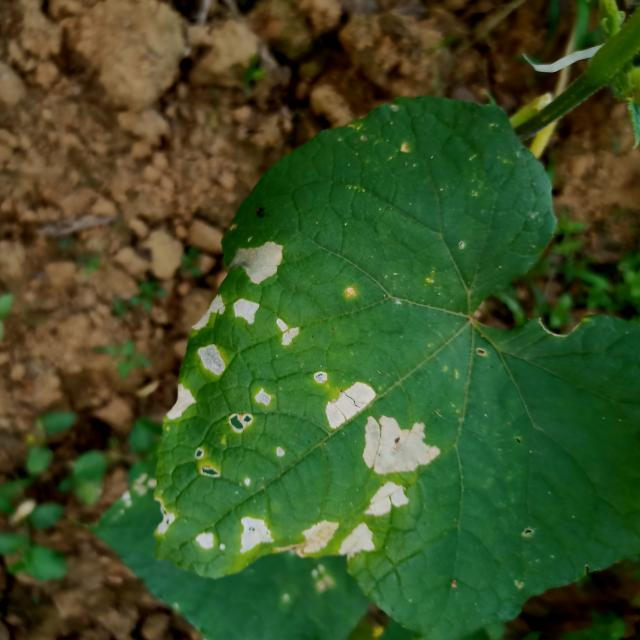disease_cucumber: (323, 381, 439, 476), (188, 516, 273, 556), (192, 292, 266, 332), (299, 522, 381, 556), (231, 240, 287, 285), (226, 386, 275, 434), (361, 482, 414, 520), (169, 382, 198, 430), (270, 314, 304, 354), (192, 344, 233, 376)
